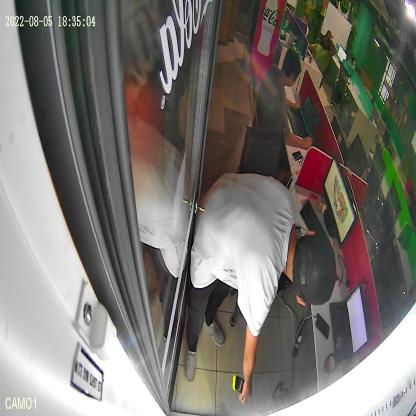yellow: (232, 375, 245, 395)
